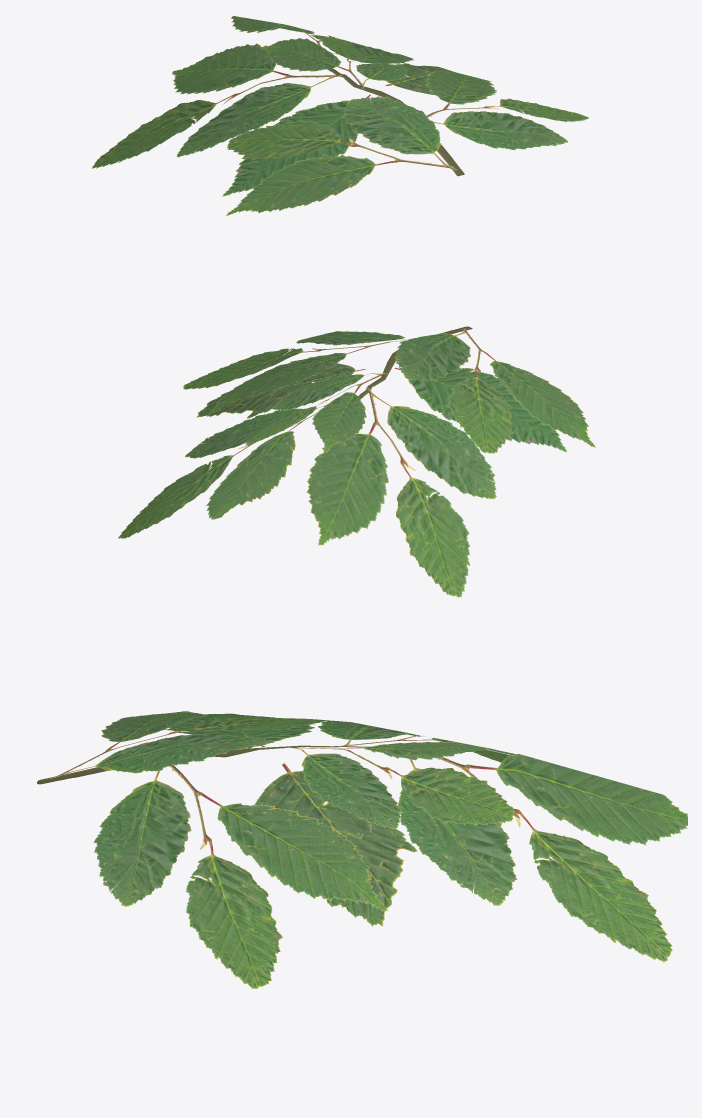
File: Branch.fbx
3 renders of one model, top to bottom at view 1: azimuth 30°, elevation 25°; view 2: azimuth 150°, elevation 25°; view 3: azimuth 270°, elevation 25°, orthographic. The views are drawn at different scales.
Visible parts, largest first — view 1: Plane; view 2: Plane; view 3: Plane.
Part boxes in pixels (x1,y1,x2,y2): Plane: (92,16,588,215); Plane: (118,326,596,597); Plane: (37,711,687,988).
Bounding box in the file's own units: 2 × 0.6869 × 2.
